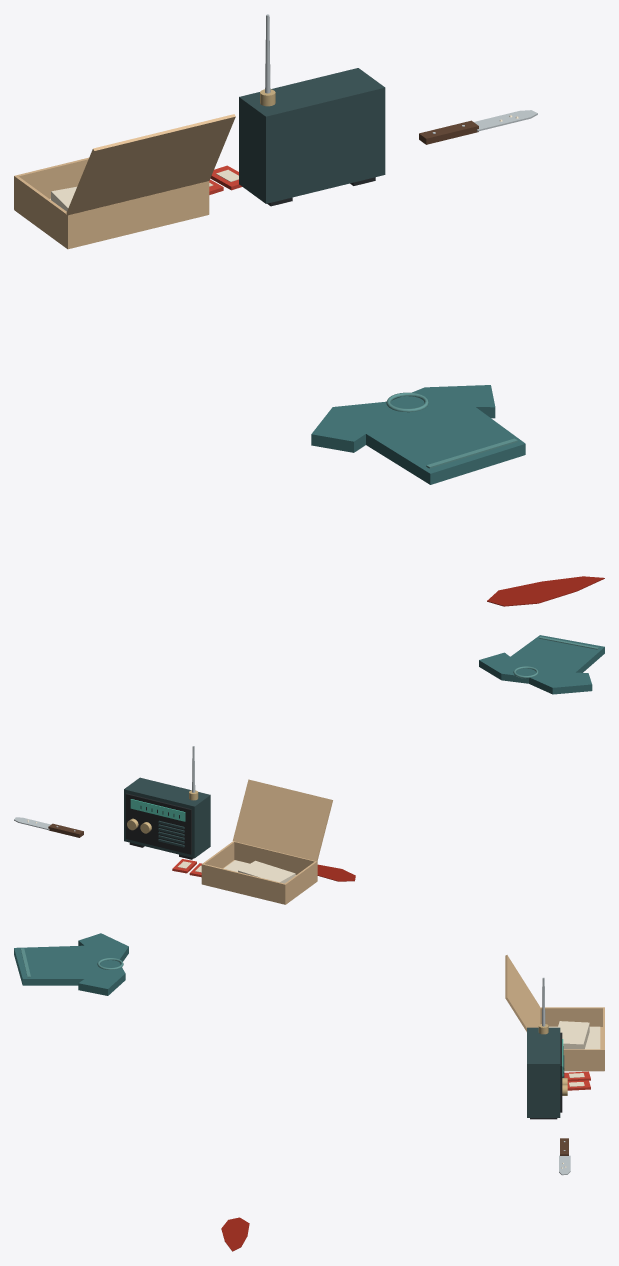
File: listening-roof-picnic.glb
The picture shows the model from 3 angles, top to bottom: view 1: azimuth 30°, elevation 25°; view 2: azimuth 150°, elevation 25°; view 3: azimuth 270°, elevation 25°; orthographic projection. The views are drawn at different scales.
Visible parts, largest first — view 1: Roof radio cabinet, Folded jersey, Hinged lid, Folded long wall (×2), Folded end wall, Sauce smear, Walnut knife handle; view 2: Hinged lid, Folded jersey, Folded long wall (×2), Roof radio cabinet, Roof radio front bezel, Folded end wall (×2), Sandwich half, Roof radio lit tuning scale, Sauce smear; view 3: Folded jersey, Roof radio cabinet, Folded end wall (×2), Hinged lid, Sandwich half, Sauce smear.
Boxes of the visible parts, box(x1,y1,x2,y2) form: Roof radio cabinet: box(239, 68, 385, 203); Folded jersey: box(311, 385, 525, 484); Hinged lid: box(66, 114, 235, 215); Folded long wall (×2): box(14, 157, 209, 248); Folded end wall: box(15, 176, 66, 246); Sauce smear: box(487, 576, 604, 606); Walnut knife handle: box(419, 120, 478, 144); Hinged lid: box(232, 779, 332, 861); Folded jersey: box(479, 635, 604, 694); Folded long wall (×2): box(201, 841, 317, 904); Roof radio cabinet: box(124, 777, 210, 858); Roof radio front bezel: box(125, 793, 191, 854); Folded end wall (×2): box(203, 841, 316, 902); Sandwich half: box(238, 860, 295, 883); Roof radio lit tuning scale: box(130, 799, 185, 821); Sauce smear: box(317, 864, 355, 881); Folded jersey: box(14, 933, 128, 995); Roof radio cabinet: box(527, 1027, 560, 1117); Folded end wall (×2): box(540, 1007, 602, 1070); Hinged lid: box(505, 955, 539, 1031); Sandwich half: box(558, 1021, 589, 1049); Sauce smear: box(221, 1217, 249, 1251).
Size of the model in its own units: 1.23 by 0.785 by 1.7.
